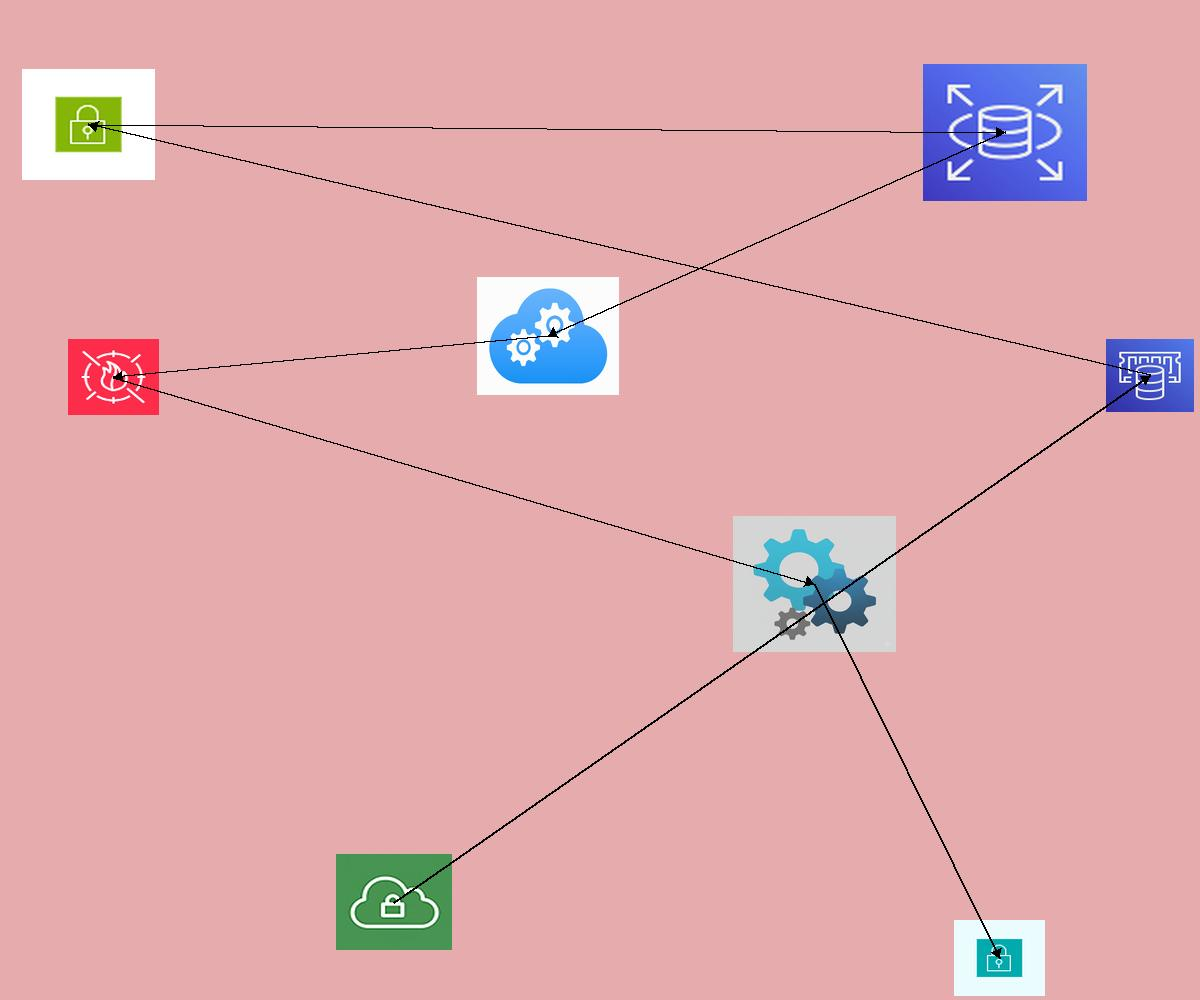AWS-ElastiCache: (1106, 339, 1194, 412)
AWS-Private-subnet: (954, 920, 1045, 996)
AWS-Private_vpc: (336, 854, 452, 950)
AWS-Public-subnet: (22, 69, 155, 180)
AWS-RDS: (923, 64, 1087, 201)
AWS-WAF: (68, 339, 159, 415)
Azure_api: (733, 516, 896, 652)
Azure_cloud_services: (477, 277, 619, 395)
